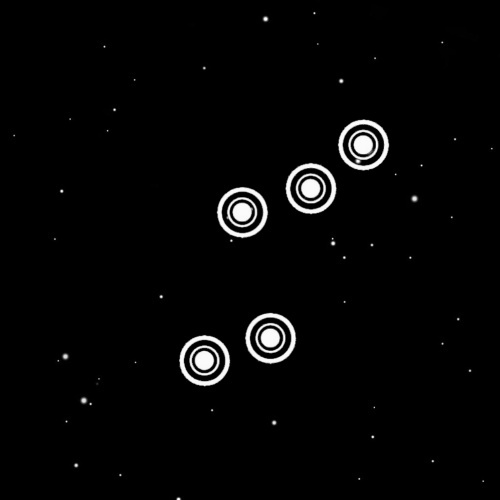lyra: (167, 106, 397, 395)
